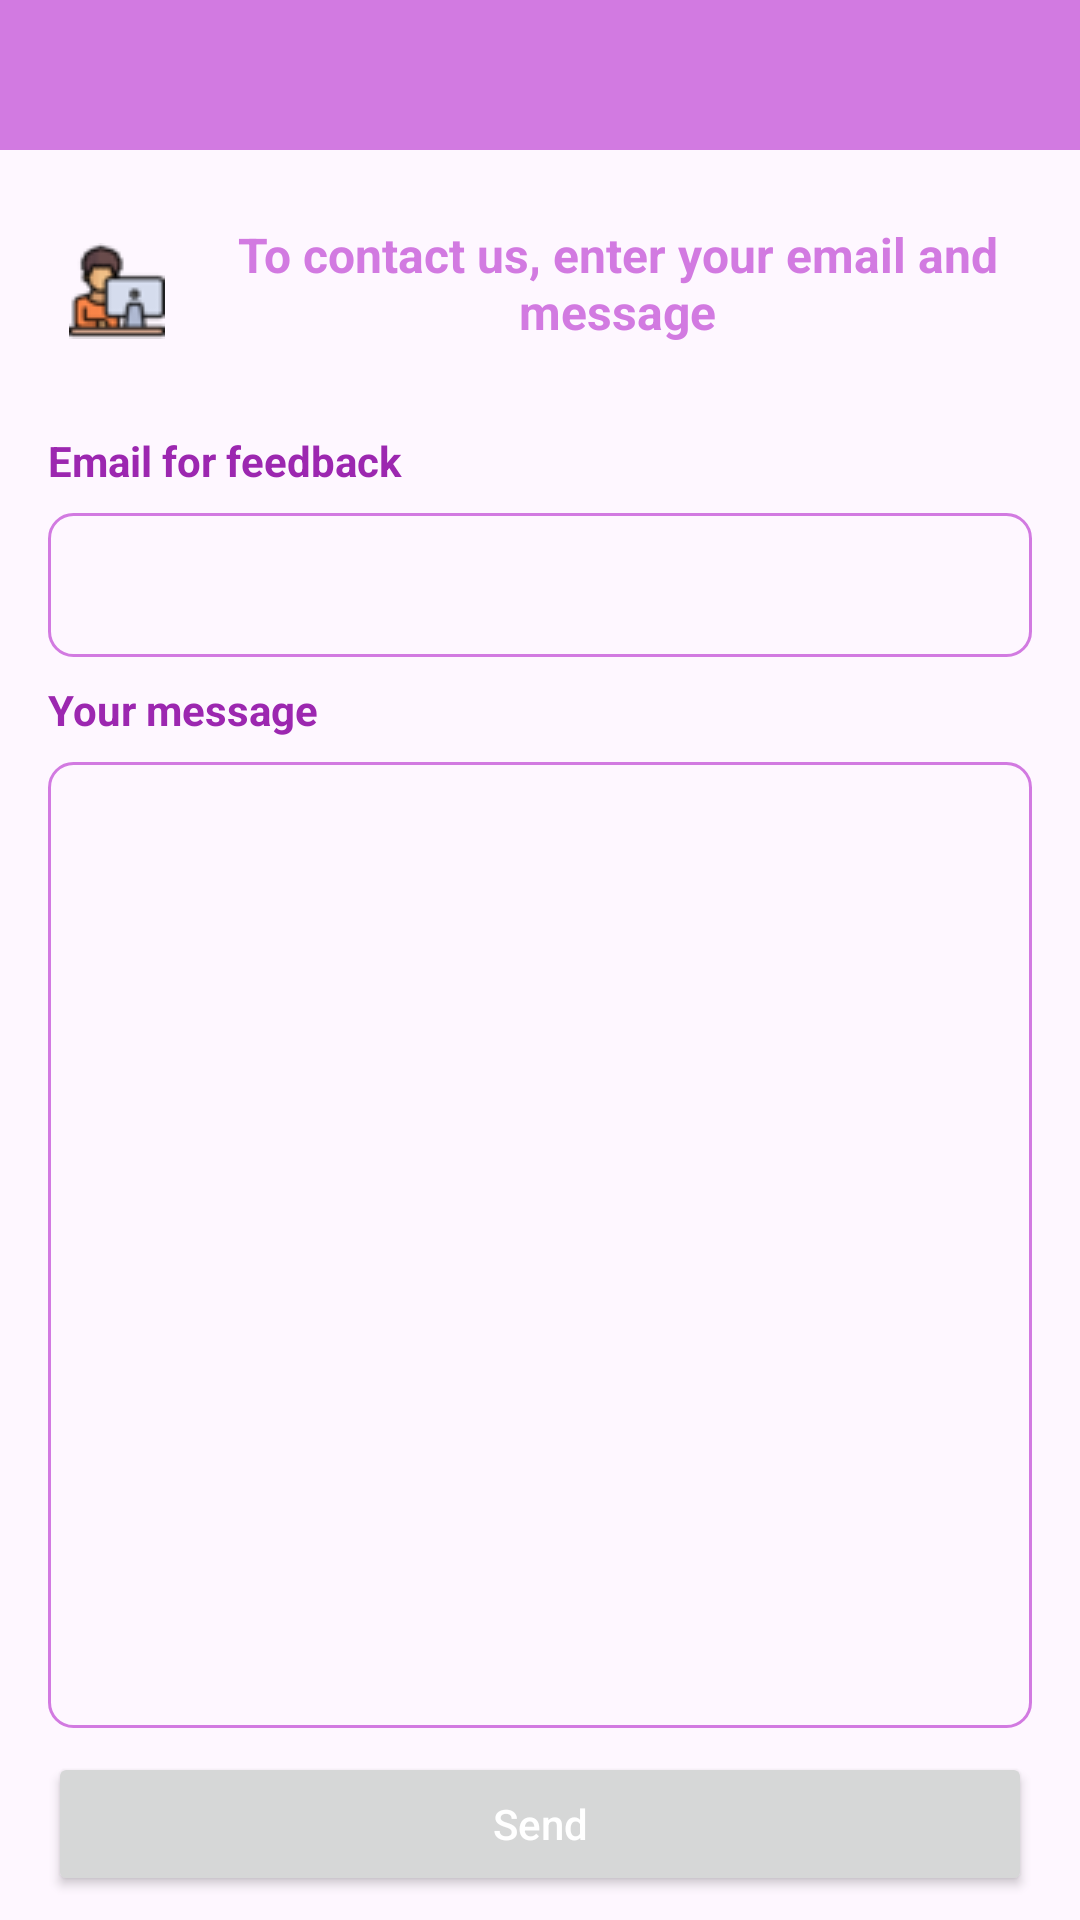

Where to tap for icons on this 1080x1920 app screen, as [x,y]:
student work office: [117,292]
